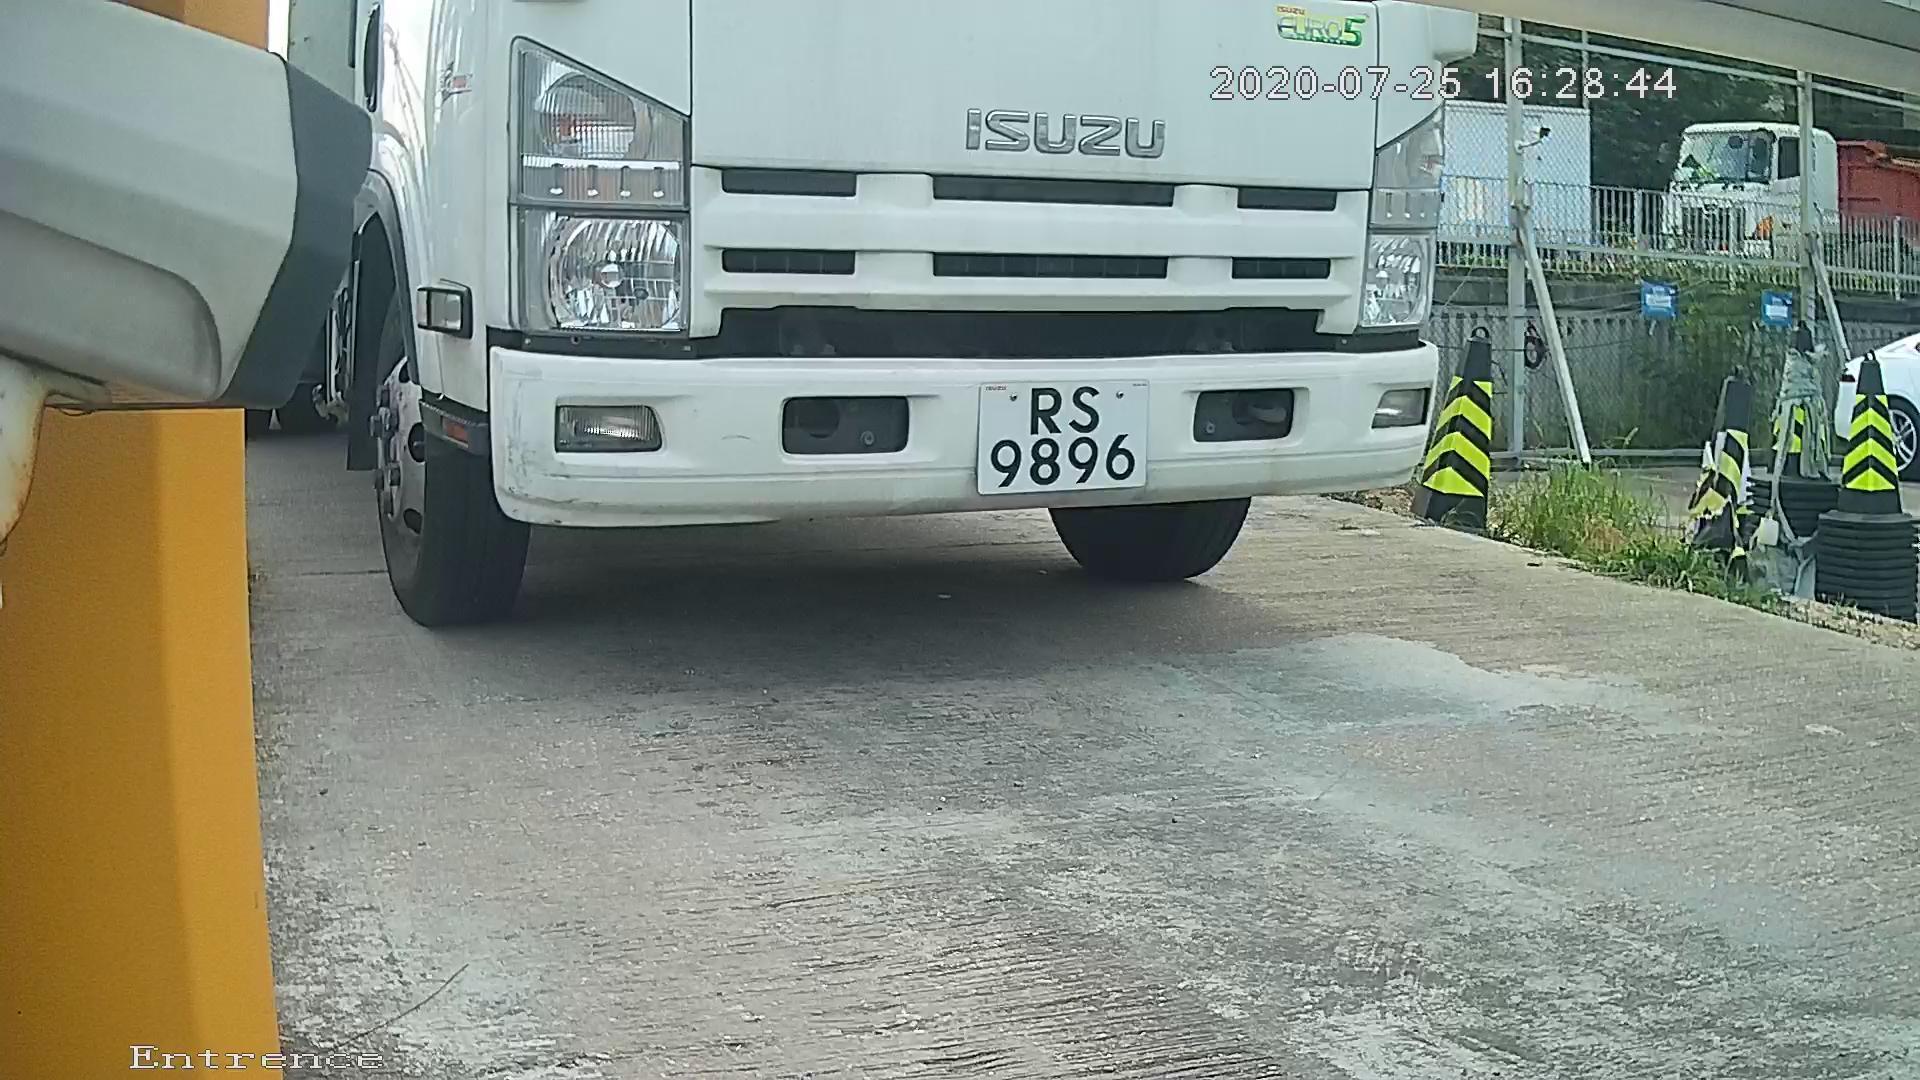truck_small: (249, 3, 1540, 679)
